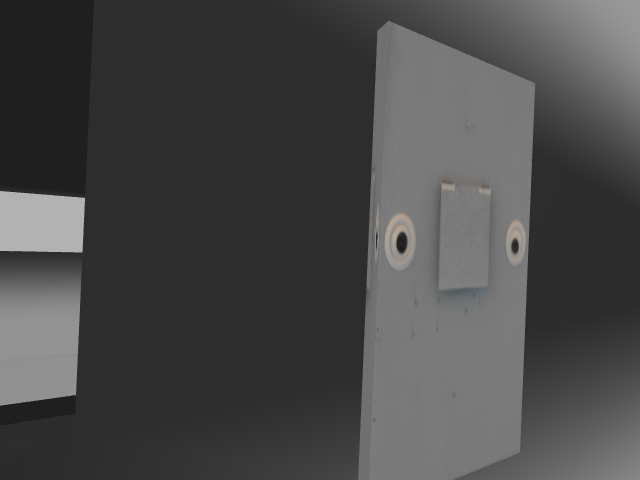facade: (383, 178, 527, 290)
